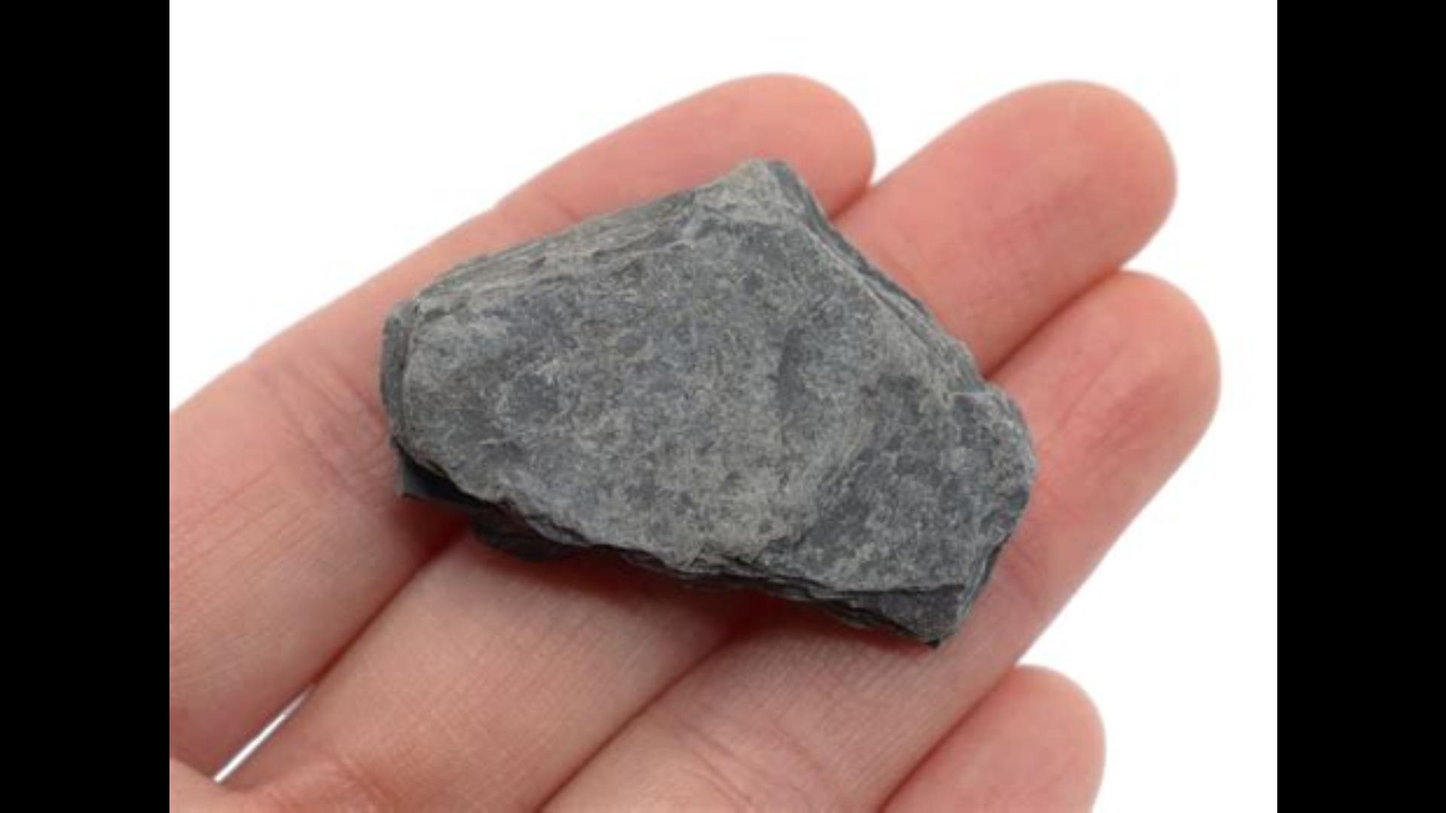rock: (381, 164, 1031, 638)
